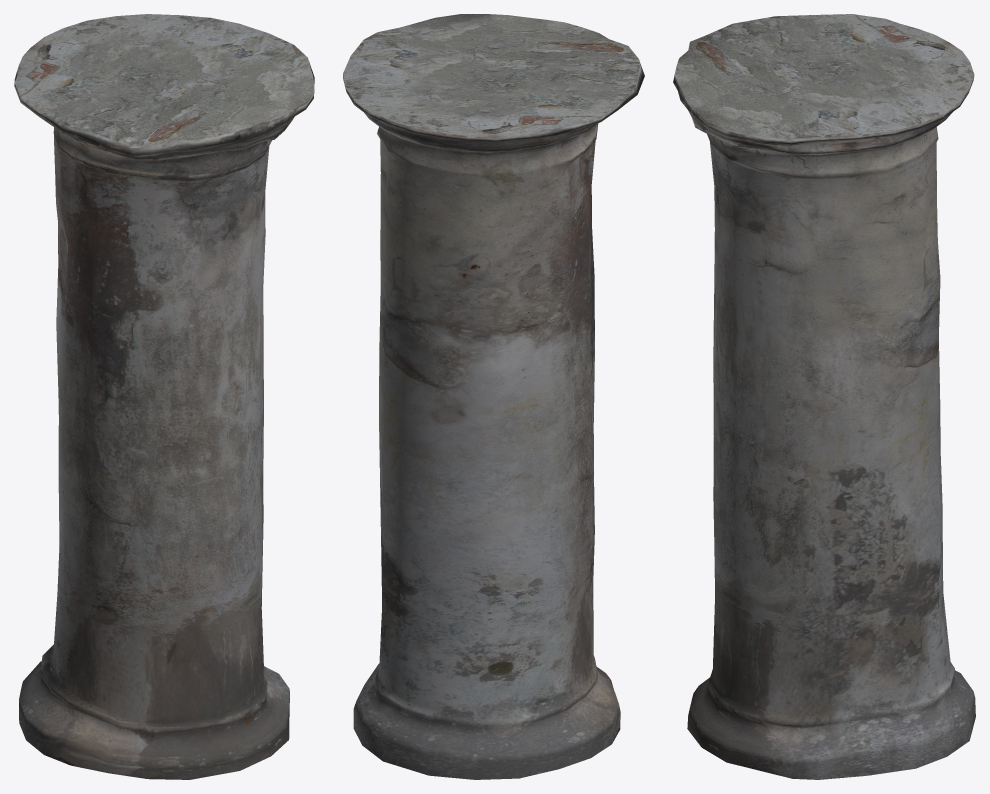
File: SM_CryptColumn_01_06.fbx
The picture shows the model from 3 angles, left to right: view 1: azimuth 30°, elevation 25°; view 2: azimuth 150°, elevation 25°; view 3: azimuth 270°, elevation 25°; orthographic projection.
Parts seen in each view (by area): view 1: sm_CryptColumn_01_06_LOD0; view 2: sm_CryptColumn_01_06_LOD0; view 3: sm_CryptColumn_01_06_LOD0.
Part boxes in pixels (left/top/right/bottom): sm_CryptColumn_01_06_LOD0: left=14, top=14, right=314, bottom=779; sm_CryptColumn_01_06_LOD0: left=343, top=14, right=644, bottom=779; sm_CryptColumn_01_06_LOD0: left=673, top=14, right=975, bottom=779.
Bounding box in the file's own units: 80.14 × 79.04 × 190.
